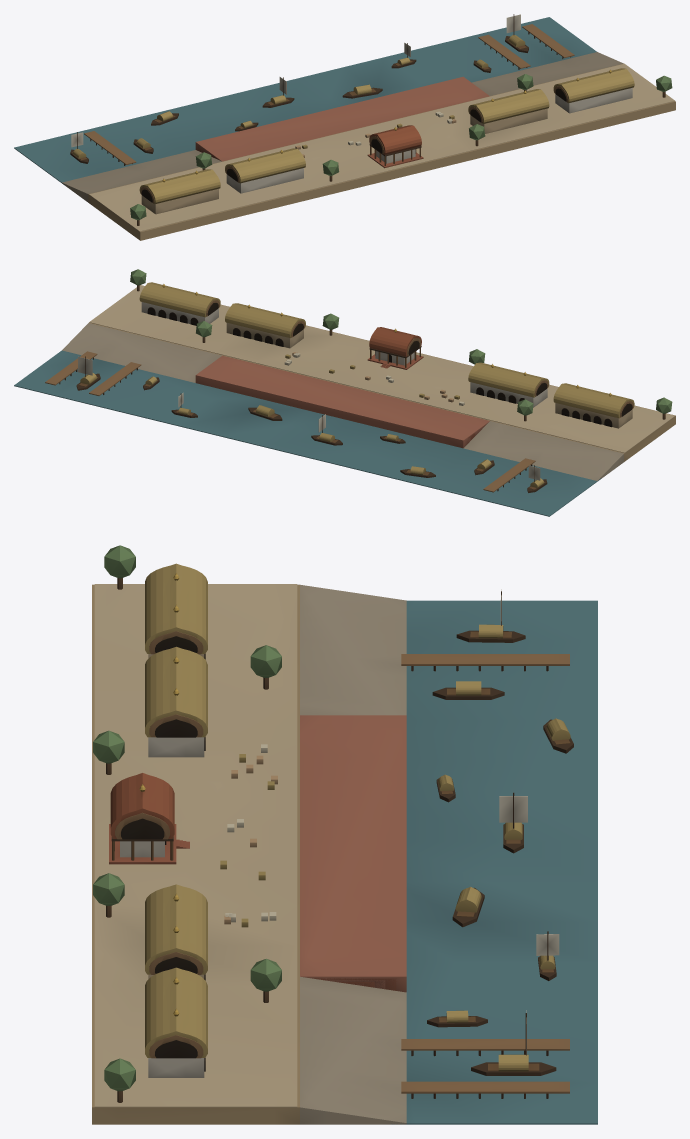
The model's file is harbour.glb.
3 renders of one model, top to bottom at view 1: azimuth 30°, elevation 25°; view 2: azimuth 150°, elevation 25°; view 3: azimuth 270°, elevation 25°, orthographic. The views are drawn at different scales.
Parts seen in each view (by area): view 1: p0_bank and ghat, p2_warehouses, p1_jetties and boats, p3_trees; view 2: p0_bank and ghat, p2_warehouses, p1_jetties and boats, p3_trees; view 3: p0_bank and ghat, p2_warehouses, p1_jetties and boats, p3_trees.
Part boxes in pixels (x1=…): p0_bank and ghat: x1=14, y1=17, x2=675, y2=240; p2_warehouses: x1=139, y1=68, x2=634, y2=214; p1_jetties and boats: x1=70, y1=14, x2=574, y2=165; p3_trees: x1=130, y1=74, x2=672, y2=225; p0_bank and ghat: x1=14, y1=285, x2=675, y2=516; p2_warehouses: x1=139, y1=282, x2=634, y2=428; p1_jetties and boats: x1=45, y1=351, x2=547, y2=492; p3_trees: x1=130, y1=269, x2=672, y2=421; p0_bank and ghat: x1=92, y1=584, x2=597, y2=1124; p2_warehouses: x1=109, y1=563, x2=277, y2=1077; p1_jetties and boats: x1=401, y1=589, x2=573, y2=1098; p3_trees: x1=93, y1=545, x2=281, y2=1102.
Bounding box in the file's own units: 222 × 15.66 × 90.
